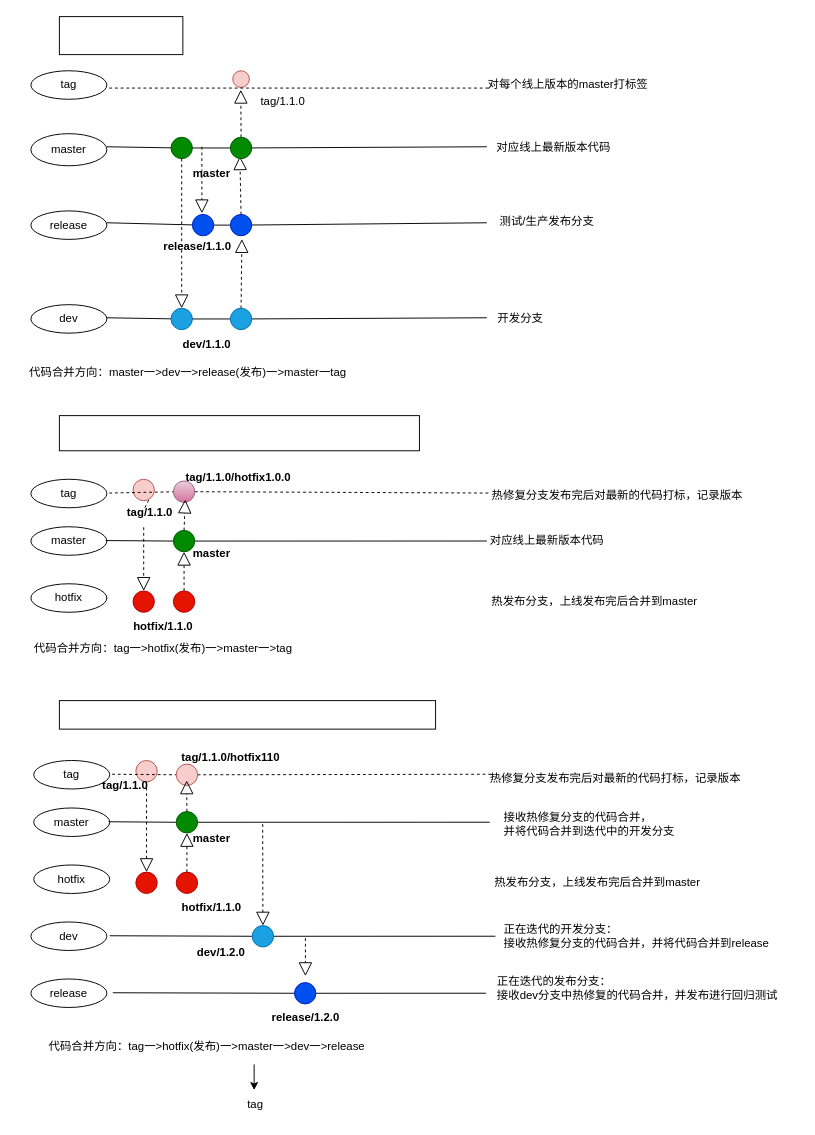
Image size: 815x1135. Some labels were removed from this diagram. Here are the shapes that lost their labels. From the top down, the centre of each, then its label:
At [120,35]: "场景1：新需求迭代开发".
At [238,433]: "场景2：线上v1.0.1版本有bug需要立即修复且当前无新的迭代开发分支".
At [247,714]: "场景3：线上v1.1.0版本有bug需要立即修复且当前存在新的迭代开发分支".
